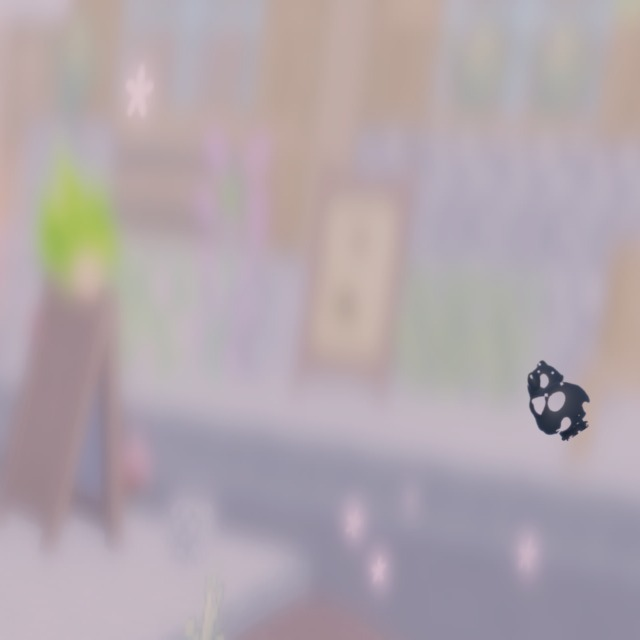urso_preto: (502, 342, 608, 452)
